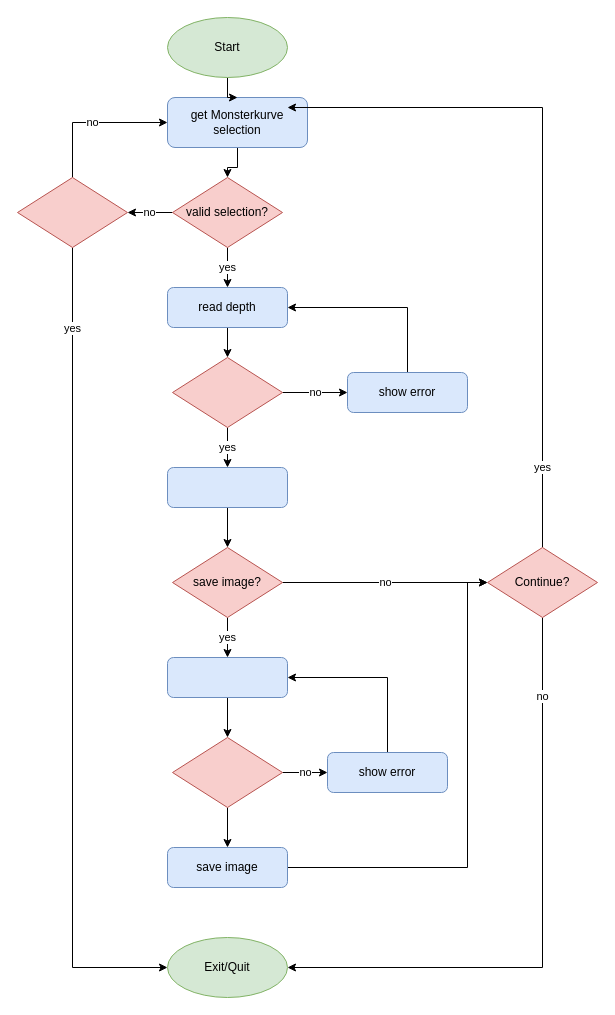
Image size: 615x1015. Some labels were removed from this diagram. The centre of each missing label's shape, as x and y in pixels:
draw Monsterkurve: (x=227, y=487)
get filename: (x=227, y=677)
quit?: (x=72, y=212)
valid depth?: (x=227, y=392)
valid filename?: (x=227, y=772)
